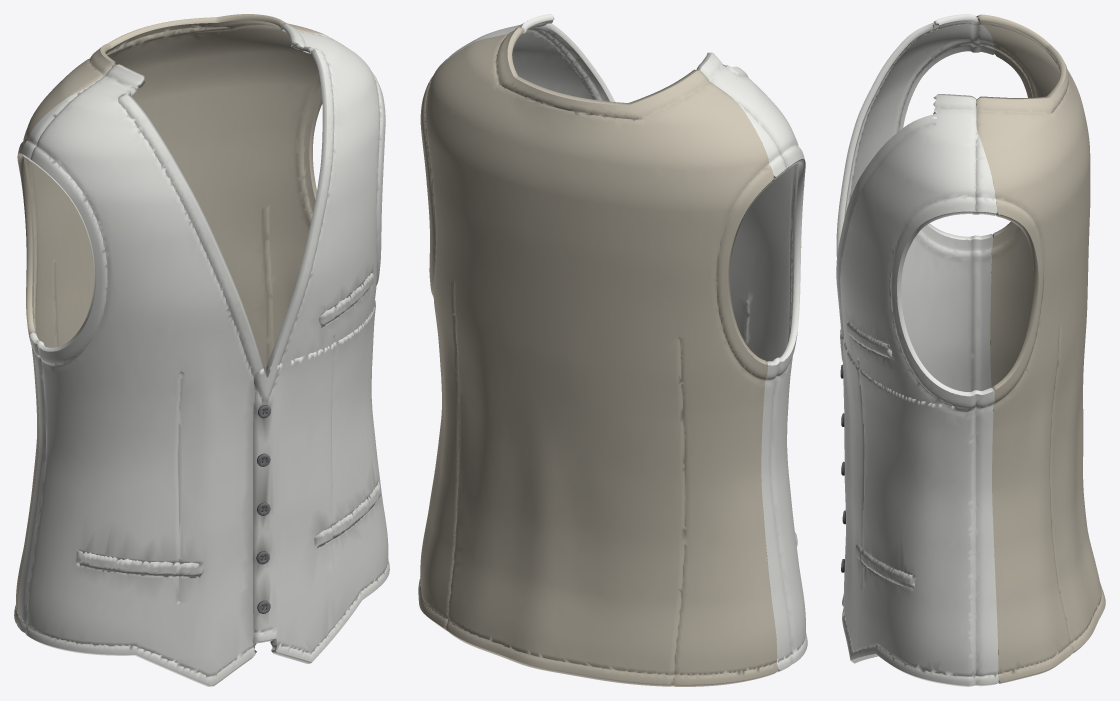
The model's file is 09_chaleco_vestir.glb.
3 views of the same model, side by side, from view 1: azimuth 30°, elevation 25°; view 2: azimuth 150°, elevation 25°; view 3: azimuth 270°, elevation 25° (orthographic). The views are drawn at different scales.
Visible parts, largest first — view 1: Chaleco de vestir; view 2: Chaleco de vestir; view 3: Chaleco de vestir.
Boxes of the visible parts, box(x1,y1,x2,y2) form: Chaleco de vestir: box(14, 14, 389, 686); Chaleco de vestir: box(418, 14, 807, 686); Chaleco de vestir: box(836, 14, 1105, 686).
Size of the model in its own units: 0.3963 by 0.6313 by 0.2638.
